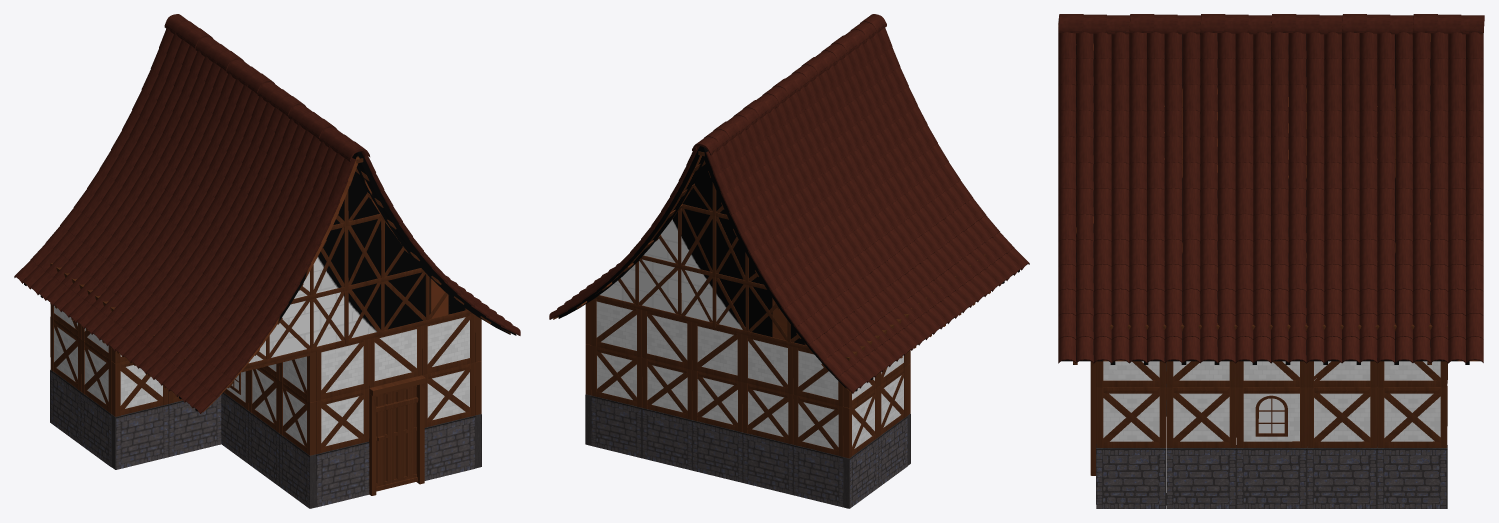
The model's file is House2_LOD1.fbx.
3 views of the same model, side by side, from view 1: azimuth 30°, elevation 25°; view 2: azimuth 150°, elevation 25°; view 3: azimuth 270°, elevation 25° (orthographic). The views are drawn at different scales.
Visible parts, largest first — view 1: House2_LOD1; view 2: House2_LOD1; view 3: House2_LOD1.
Part boxes in pixels (bbox=[...]): House2_LOD1: bbox=[14, 14, 520, 508]; House2_LOD1: bbox=[549, 14, 1029, 508]; House2_LOD1: bbox=[1058, 14, 1484, 508].
Bounding box in the file's own units: 1292 × 1385 × 1285.
